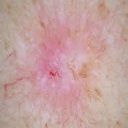Carcinoma: (37, 45, 92, 96)
